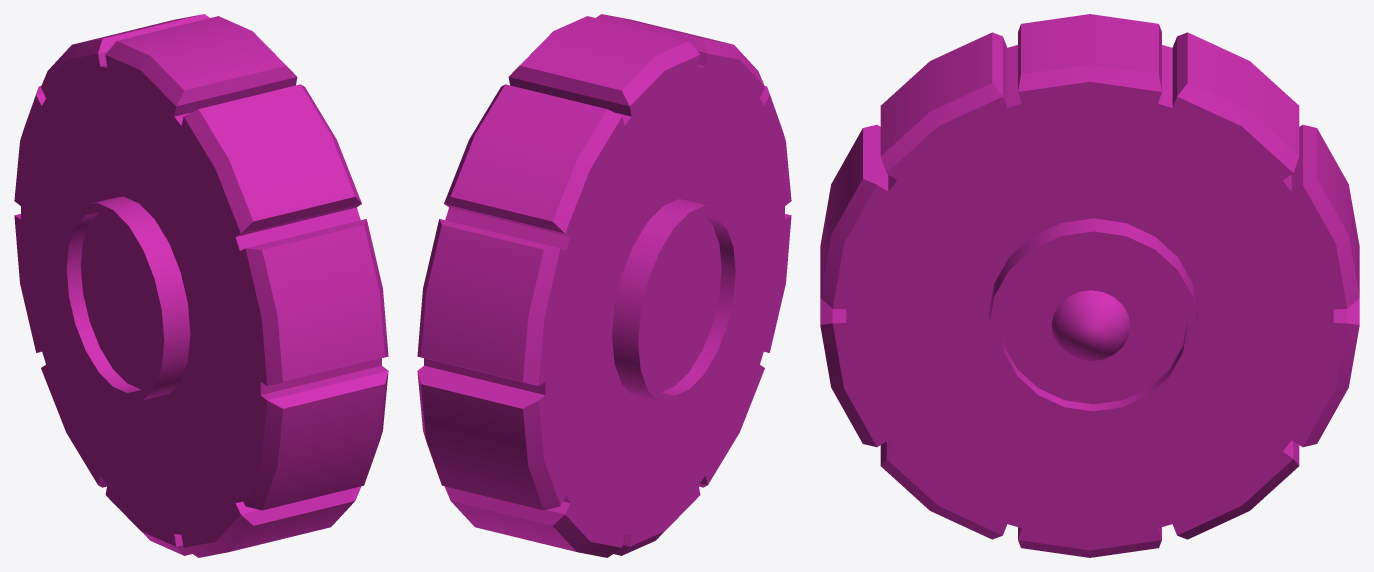
Rendered from SqueekWheel.fbx.
The picture shows the model from 3 angles, left to right: view 1: azimuth 30°, elevation 25°; view 2: azimuth 150°, elevation 25°; view 3: azimuth 270°, elevation 25°; orthographic projection.
Parts seen in each view (by area): view 1: wheel6, rim7; view 2: wheel6, rim7; view 3: wheel6, rim8, bolt3.
Part boxes in pixels (left/top/right/bottom): wheel6: left=14, top=14, right=388, bottom=557; rim7: left=61, top=196, right=190, bottom=402; wheel6: left=417, top=14, right=791, bottom=557; rim7: left=612, top=199, right=740, bottom=405; wheel6: left=820, top=14, right=1359, bottom=557; rim8: left=989, top=218, right=1197, bottom=420; bolt3: left=1051, top=290, right=1130, bottom=361.
Bounding box in the file's own units: 1.07 × 2.69 × 2.66.
